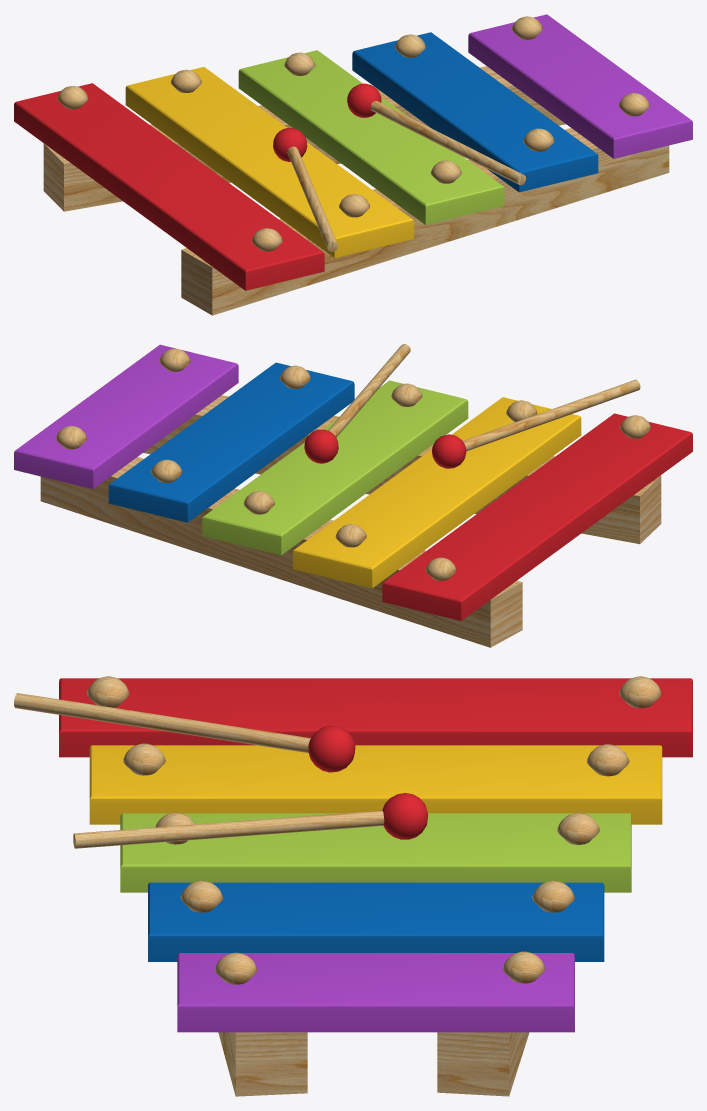
The model's file is Xilofono.FBX.
3 views of the same model, one above another, from view 1: azimuth 30°, elevation 25°; view 2: azimuth 150°, elevation 25°; view 3: azimuth 270°, elevation 25° (orthographic). The views are drawn at different scales.
Parts seen in each view (by area): view 1: xilofono, utensil 2, utensil 1; view 2: xilofono, utensil 1, utensil 2; view 3: xilofono, utensil 2, utensil 1.
Boxes of the visible parts, left/top/right/bottom form: xilofono: left=14, top=14, right=692, bottom=315; utensil 2: left=347, top=83, right=526, bottom=185; utensil 1: left=273, top=127, right=337, bottom=251; xilofono: left=14, top=344, right=692, bottom=647; utensil 1: left=432, top=379, right=640, bottom=468; utensil 2: left=304, top=344, right=410, bottom=463; xilofono: left=59, top=676, right=692, bottom=1096; utensil 2: left=73, top=793, right=428, bottom=848; utensil 1: left=14, top=693, right=355, bottom=772.
Bounding box in the file's own units: 40.81 × 7.99 × 35.33.
